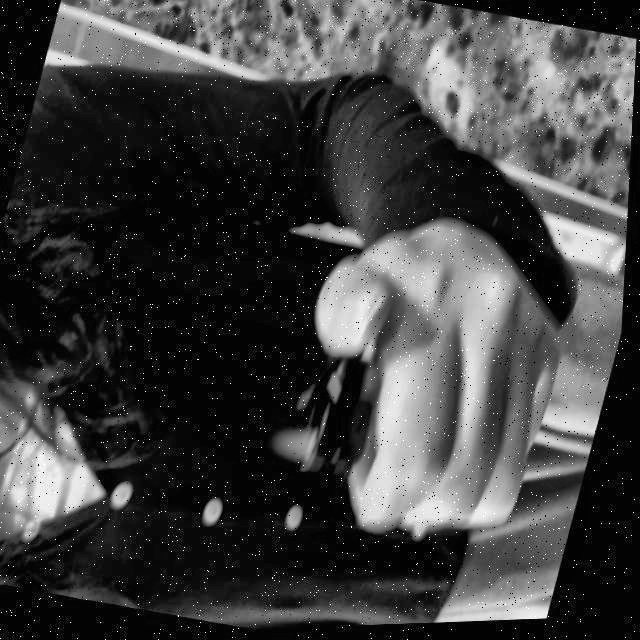Fire: (265, 415, 325, 470)
